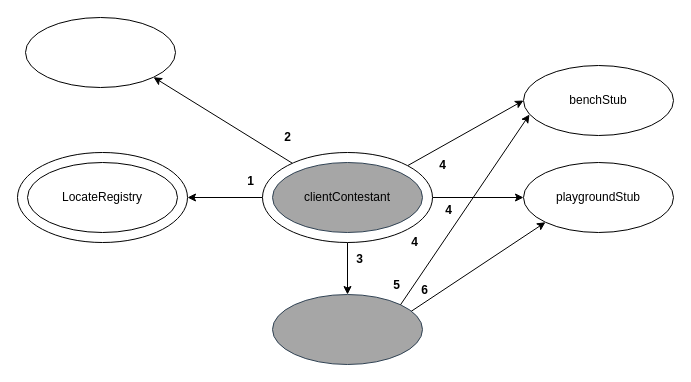
This 691x382 diagram has some shape labels left out. Each missing label, with the centre of its shape:
"registry" goes at (x=100, y=52).
"TContestant[i] i=0,1,...,4" goes at (x=347, y=329).
